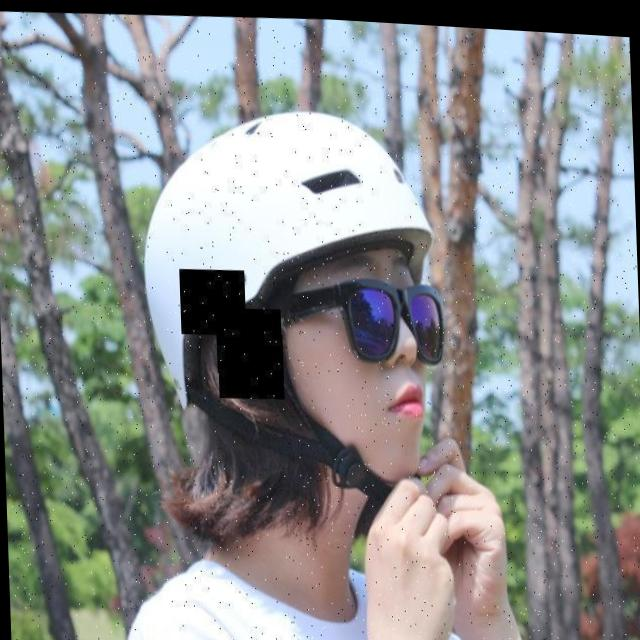helmet: (134, 92, 454, 521)
